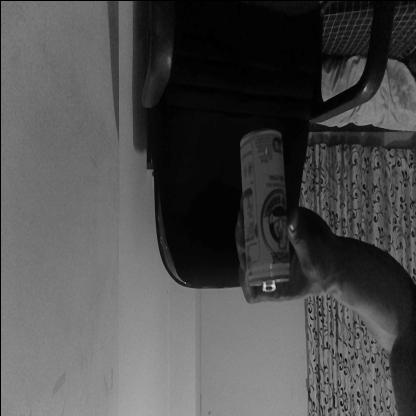alumunium_can: (238, 125, 290, 296)
